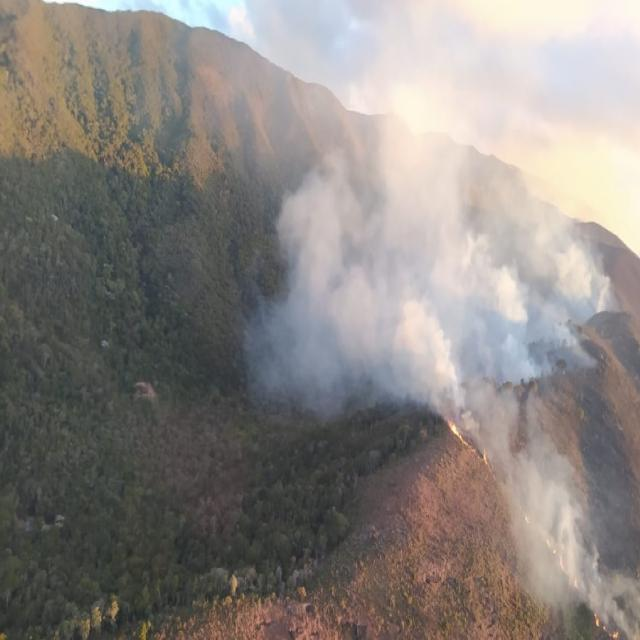Fire: (446, 418, 465, 442), (590, 611, 602, 629), (482, 446, 489, 466), (606, 631, 620, 639)
Smoke: (252, 26, 618, 404), (471, 405, 640, 640)
